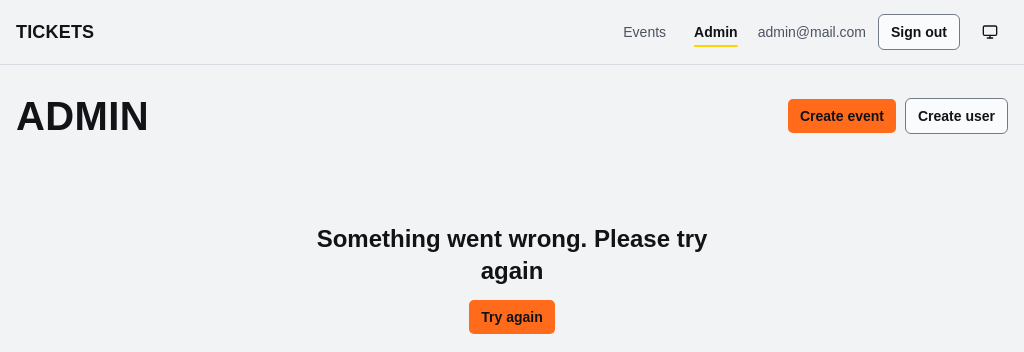
AdminPage › shows the error and retries
expect the heading "Something went wrong. Please try again" is shown: met, box [288, 223, 736, 287]
Click the button "Try again": point(512, 317) [468, 299, 556, 335]
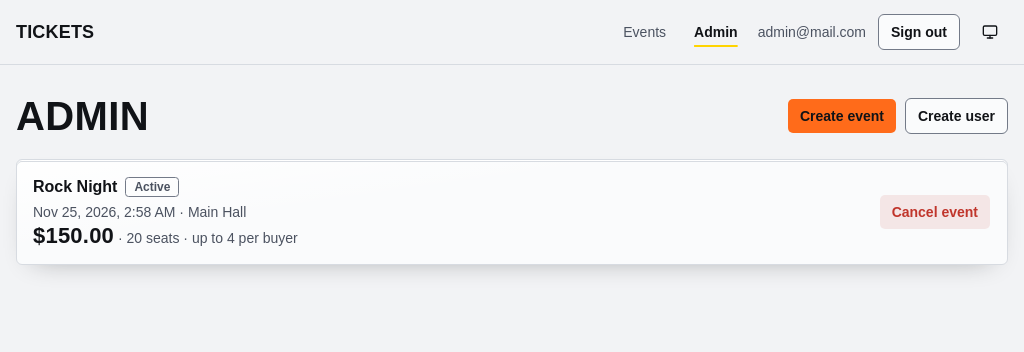
expect the link "Rock Night" is shown: met, box [33, 178, 118, 195]
